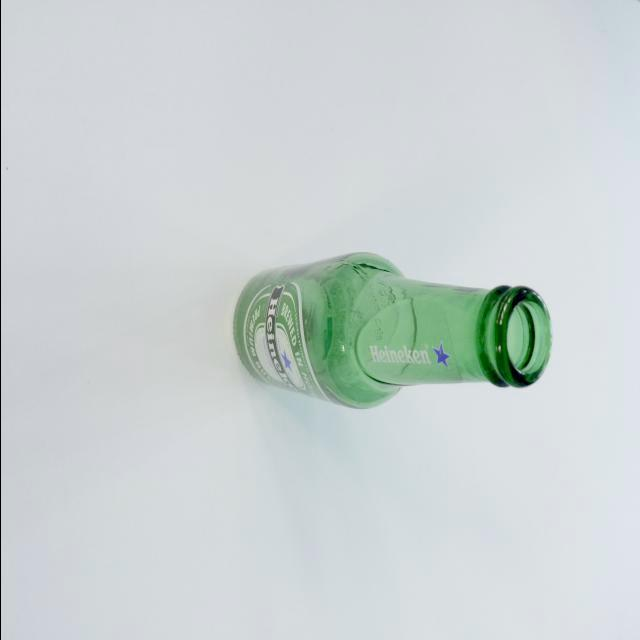glass: (224, 248, 556, 417)
